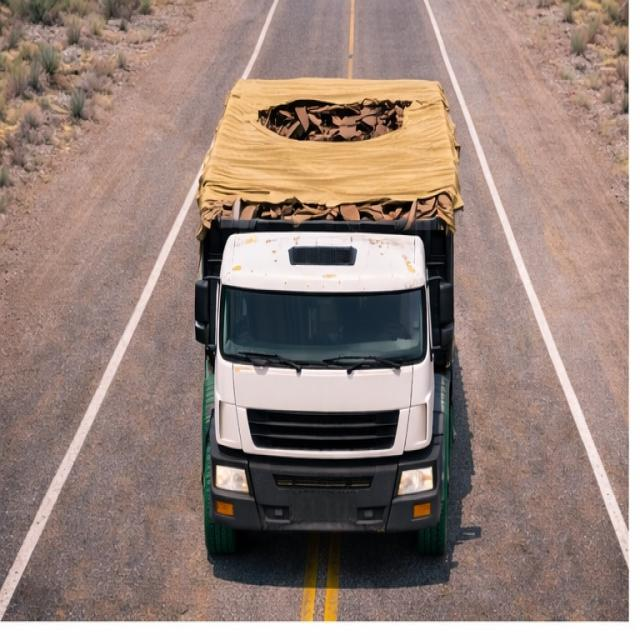trailer: (201, 78, 461, 236)
truck: (184, 64, 467, 562)
